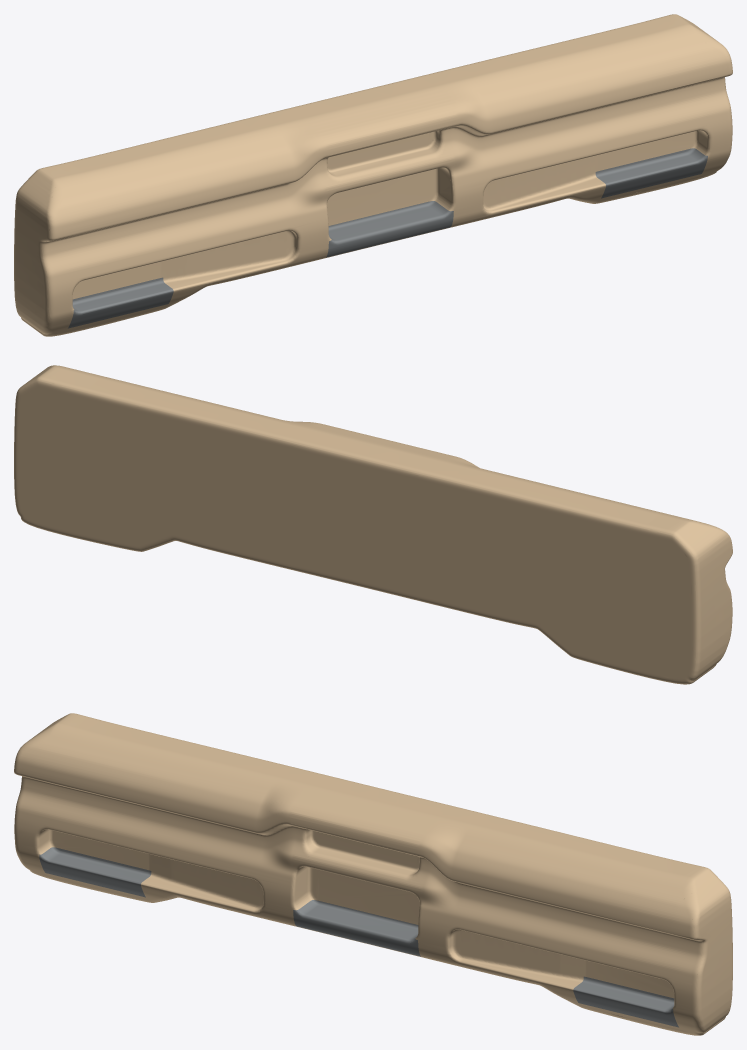
Rendered from nature-climbing-stoak-board-iii.glb.
3 views of the same model, one above another, from view 1: azimuth 30°, elevation 25°; view 2: azimuth 150°, elevation 25°; view 3: azimuth 330°, elevation 25° (orthographic).
Visible parts, largest first — view 1: top-jug, body-board, centre-granite-edge, upper-centre-wood-edge, left-tapered-wood-edge, right-granite-edge, right-tapered-wood-edge, left-granite-edge; view 2: body-board, top-jug; view 3: top-jug, body-board, centre-granite-edge, upper-centre-wood-edge, right-tapered-wood-edge, left-granite-edge, left-tapered-wood-edge, right-granite-edge.
Boxes of the visible parts, x1,y1,x2,y2 form: top-jug: (15, 14, 732, 241); body-board: (14, 77, 732, 336); centre-granite-edge: (326, 201, 453, 257); upper-centre-wood-edge: (325, 132, 448, 186); left-tapered-wood-edge: (163, 247, 296, 303); right-granite-edge: (595, 148, 707, 198); right-tapered-wood-edge: (482, 166, 605, 219); left-granite-edge: (68, 277, 173, 328); body-board: (14, 382, 732, 684); top-jug: (16, 365, 732, 571); top-jug: (14, 713, 731, 940); body-board: (14, 776, 732, 1035); centre-granite-edge: (293, 900, 420, 956); upper-centre-wood-edge: (298, 831, 421, 885); right-tapered-wood-edge: (450, 946, 583, 1002); left-granite-edge: (39, 847, 151, 897); left-tapered-wood-edge: (141, 865, 264, 918); right-granite-edge: (573, 976, 678, 1027).
Bounding box in the file's own units: 0.5715 × 0.1211 × 0.0548.
